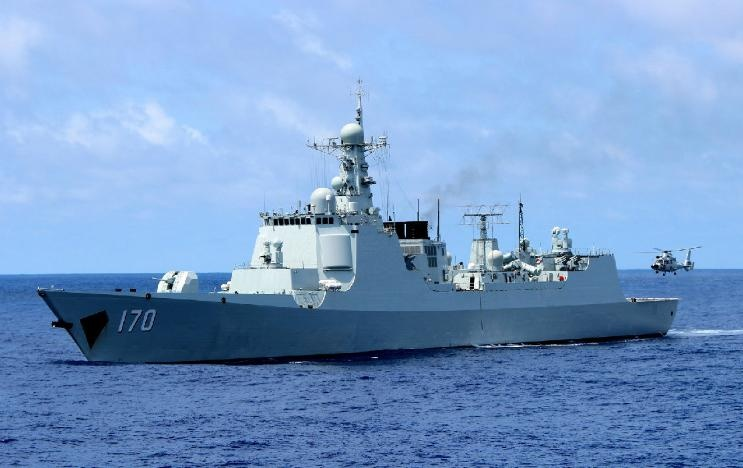airplane: (632, 244, 704, 274)
warship: (32, 75, 683, 370)
